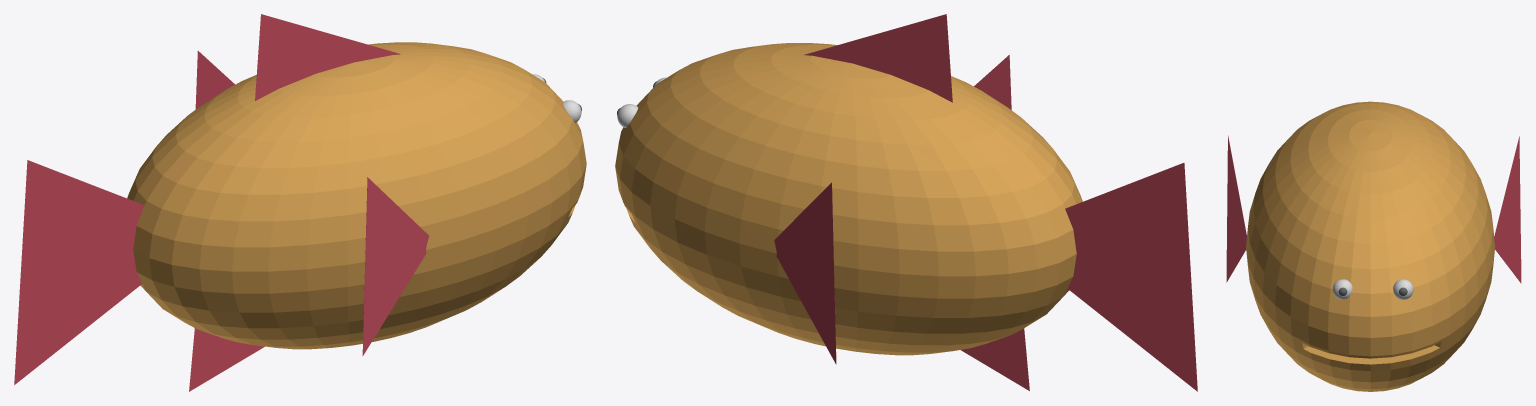
File: Sizzling Rottis-Crift.glb
3 views of the same model, side by side, from view 1: azimuth 30°, elevation 25°; view 2: azimuth 150°, elevation 25°; view 3: azimuth 270°, elevation 25° (orthographic). The views are drawn at different scales.
Visible parts, largest first — view 1: Mesh_Mesh_head_geo.001_lambert2SG.001; view 2: Mesh_Mesh_head_geo.001_lambert2SG.001; view 3: Mesh_Mesh_head_geo.001_lambert2SG.001.
Boxes of the visible parts, x1,y1,x2,y2 form: Mesh_Mesh_head_geo.001_lambert2SG.001: (14,14,586,391); Mesh_Mesh_head_geo.001_lambert2SG.001: (615,14,1197,391); Mesh_Mesh_head_geo.001_lambert2SG.001: (1226,101,1521,391).
Bounding box in the file's own units: 66 × 40 × 35.52.
